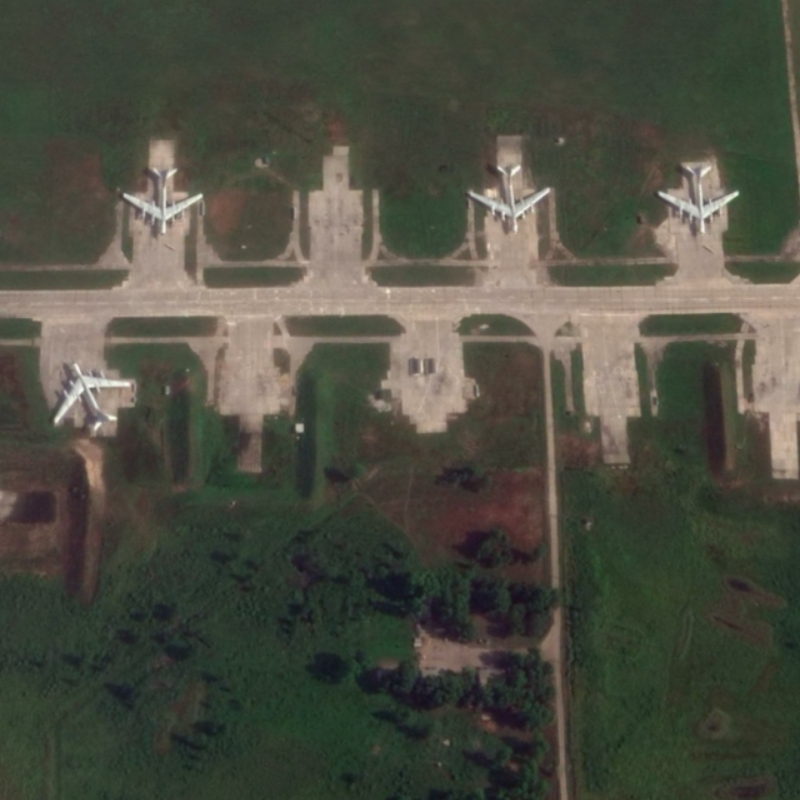A17: (656, 163, 742, 238), (466, 162, 553, 236), (121, 165, 205, 238), (51, 360, 132, 433)
